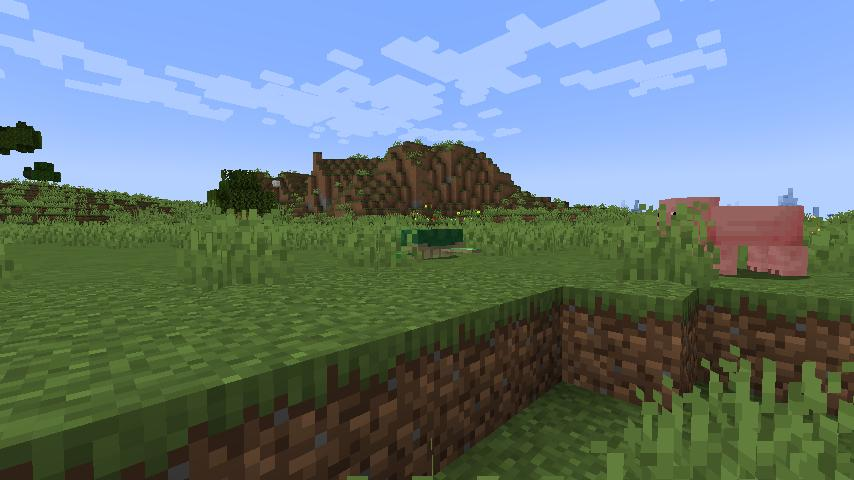pig: (651, 193, 814, 283)
turtle: (394, 224, 484, 263)
